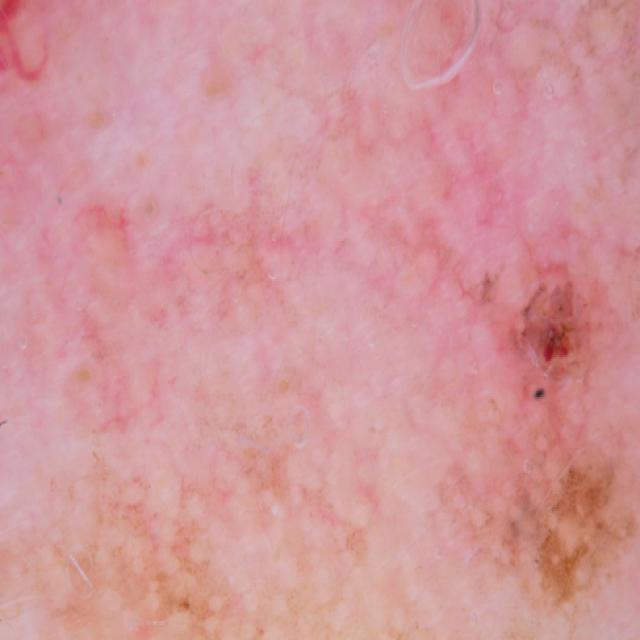Keratosis: (461, 197, 639, 640), (67, 385, 249, 640)
